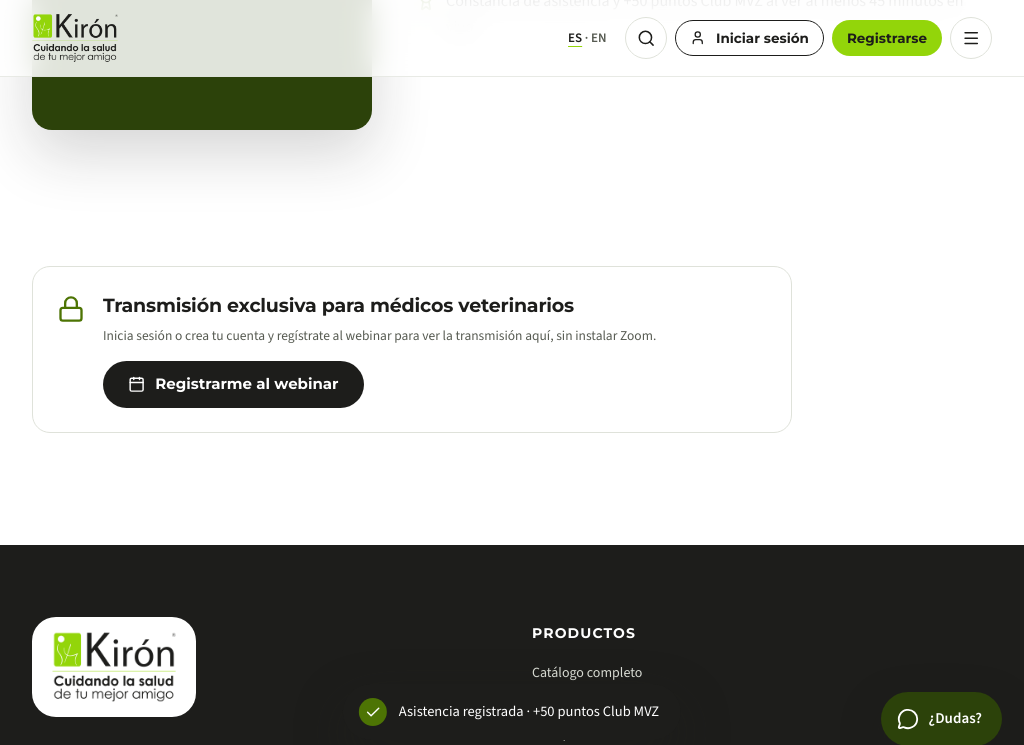
Scenario: landing del webinar › sin sesión pide iniciar sesión para registrarse
The image size is (1024, 745).
(page scrolled)
Click the button "Registrarme al webinar" at (233, 384), box [103,361,364,408]
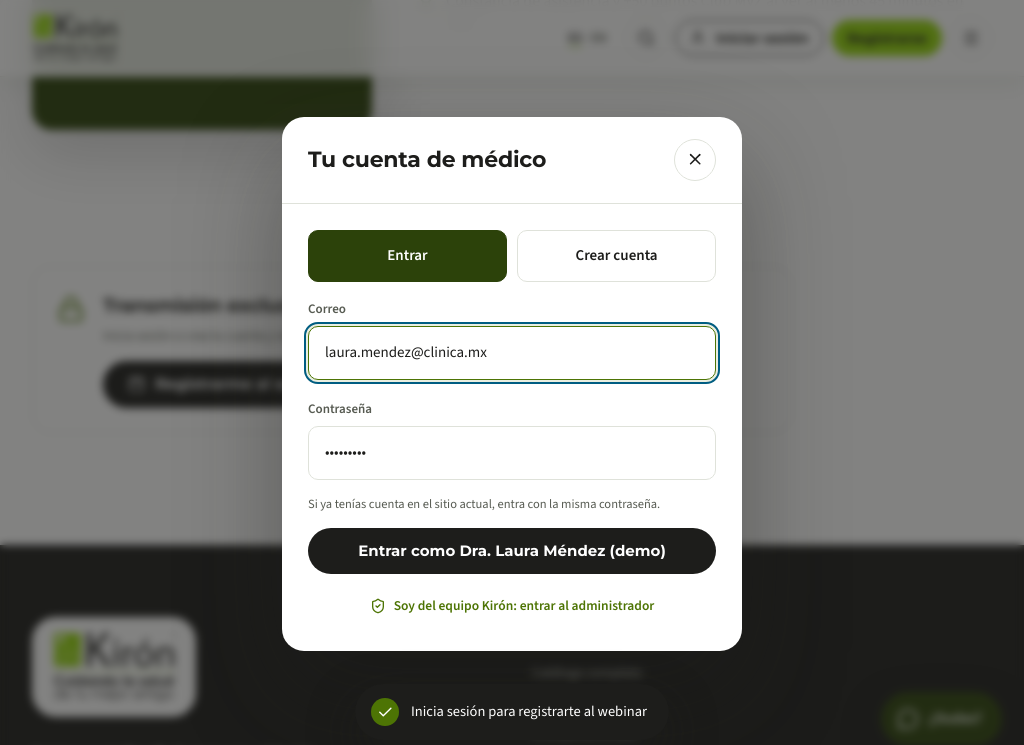
Now the dialog "Tu cuenta de médico" is shown, box [282,117,742,651]
